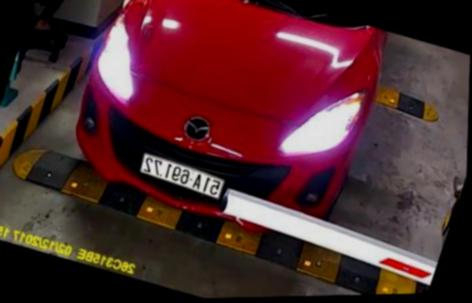License_Plate: (132, 151, 233, 206)
